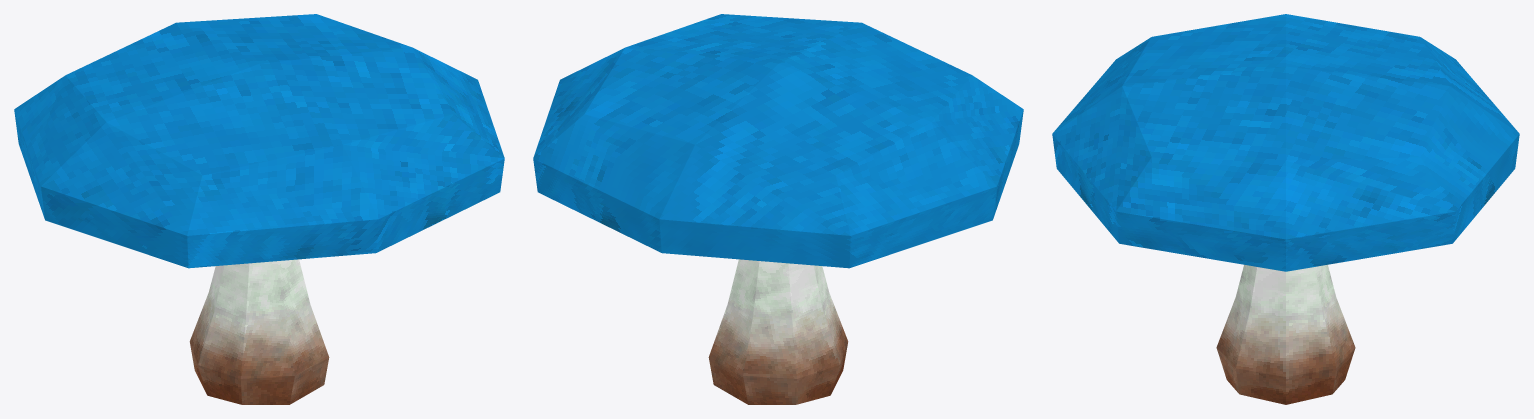
File: mushroom_02.glb
3 views of the same model, side by side, from view 1: azimuth 30°, elevation 25°; view 2: azimuth 150°, elevation 25°; view 3: azimuth 270°, elevation 25° (orthographic).
Visible parts, largest first — view 1: MUSH_02-no-col; view 2: MUSH_02-no-col; view 3: MUSH_02-no-col.
Boxes of the visible parts, x1=… form: MUSH_02-no-col: x1=14, y1=14, x2=504, y2=404; MUSH_02-no-col: x1=533, y1=14, x2=1023, y2=404; MUSH_02-no-col: x1=1052, y1=14, x2=1519, y2=404.
Bounding box in the file's own units: 2.51 × 1.81 × 2.37.
Materials: 1 (1 with a texture image).
